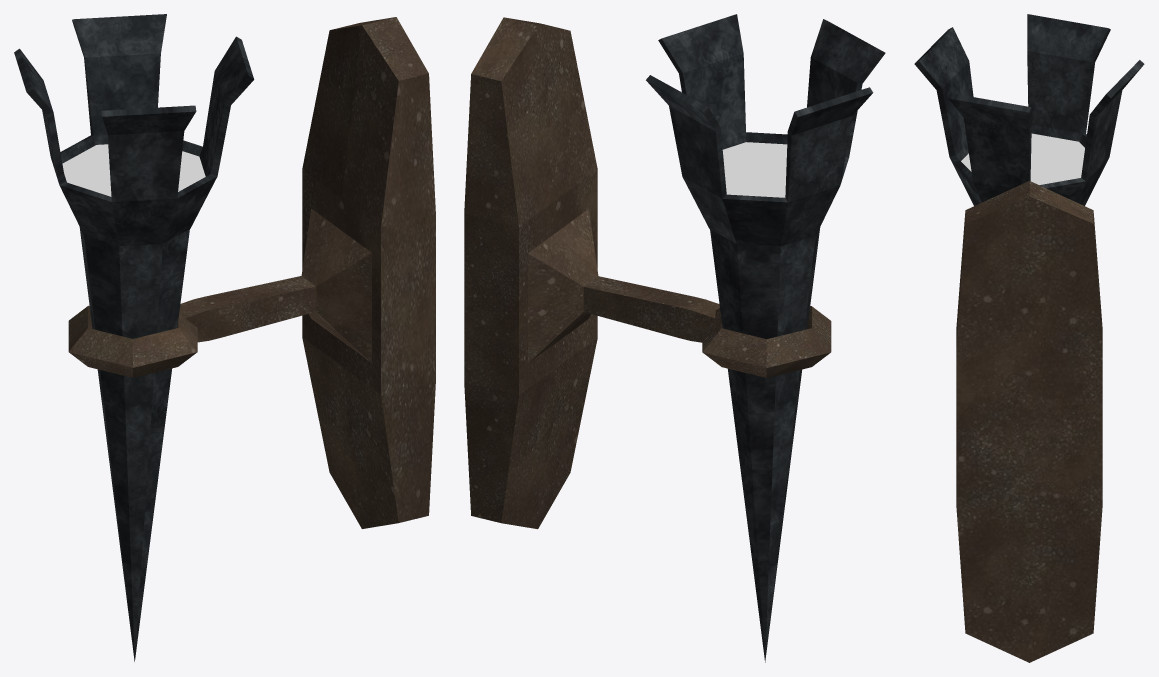
File: Torch 1.fbx
3 renders of one model, left to right at view 1: azimuth 30°, elevation 25°; view 2: azimuth 150°, elevation 25°; view 3: azimuth 270°, elevation 25°, orthographic. The views are drawn at different scales.
Visible parts, largest first — view 1: Wall torch 1; view 2: Wall torch 1; view 3: Wall torch 1.
Boxes of the visible parts, x1,y1,x2,y2 form: Wall torch 1: (14, 14, 435, 661); Wall torch 1: (464, 14, 885, 662); Wall torch 1: (914, 14, 1144, 662).
Size of the model in its own units: 60.97 by 94.59 by 35.5.
